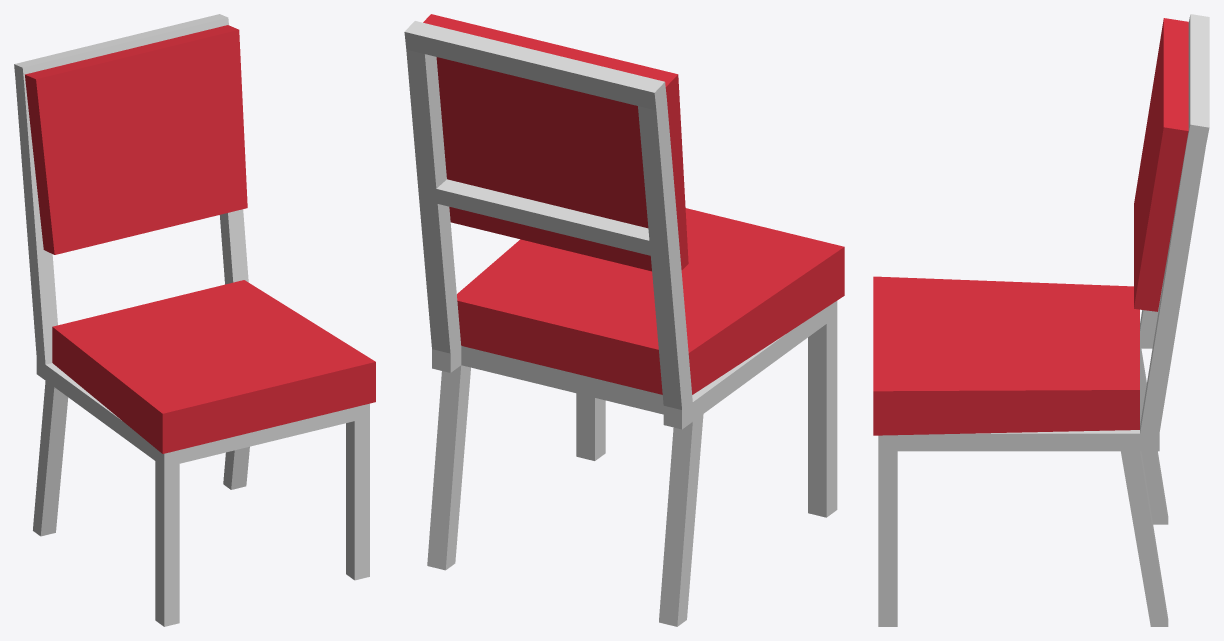
Rendered from Chair.fbx.
3 views of the same model, side by side, from view 1: azimuth 30°, elevation 25°; view 2: azimuth 150°, elevation 25°; view 3: azimuth 270°, elevation 25° (orthographic). The views are drawn at different scales.
Parts seen in each view (by area): view 1: Cube.004; view 2: Cube.004; view 3: Cube.004.
Part boxes in pixels (box(x1,y1,x2,y2)): Cube.004: box(14, 14, 375, 626); Cube.004: box(404, 14, 844, 626); Cube.004: box(873, 14, 1209, 626).
Bounding box in the file's own units: 50.4 × 103 × 62.39.
